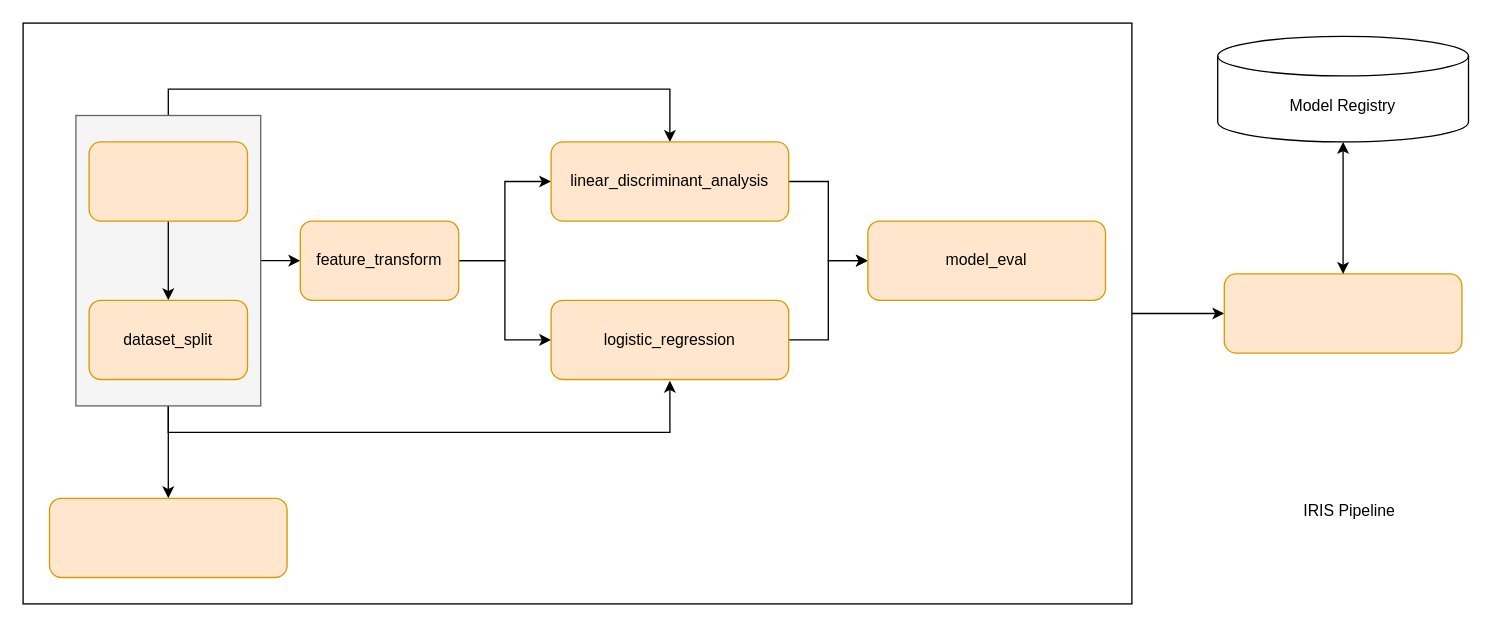
Some shapes in this 1492 by 627 pixel diagram are drawn without their labels. Here are the shapes that lost their labels. From the top down, the centre of each, then its label:
the point at 168,181: data_extraction
the point at 1342,313: model_pub
the point at 167,537: data_validation
